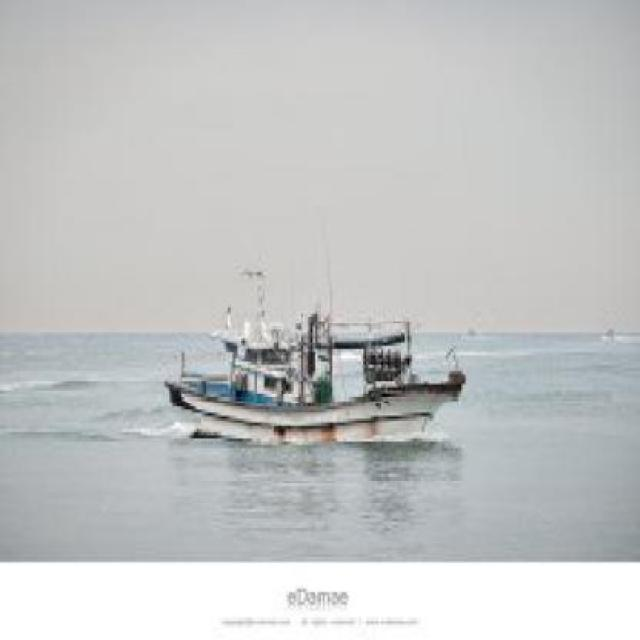fish-b: (159, 302, 471, 471)
